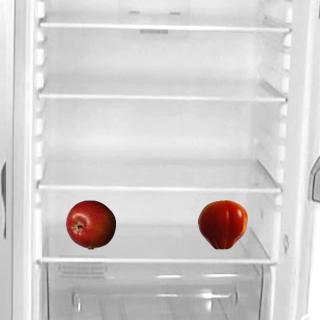Apple Braeburn: (65, 199, 115, 249)
Tomato 1: (197, 199, 247, 249)
